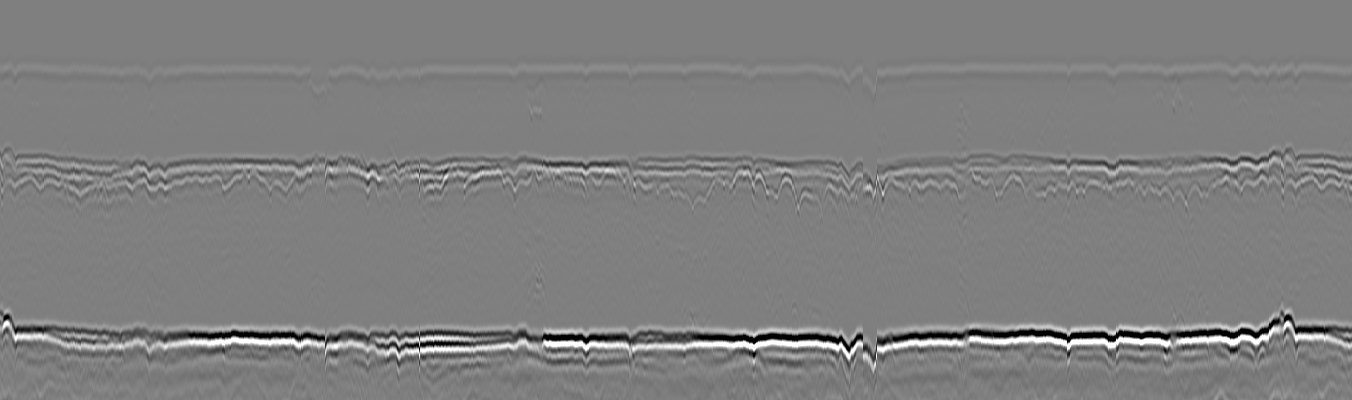fault: (835, 142, 888, 217), (839, 42, 890, 118), (124, 148, 173, 212), (1224, 141, 1265, 207), (1096, 143, 1132, 218), (296, 49, 337, 111), (496, 147, 529, 204), (1222, 46, 1254, 102), (131, 50, 165, 100), (2, 142, 29, 203), (1095, 51, 1125, 94), (3, 54, 24, 89)
